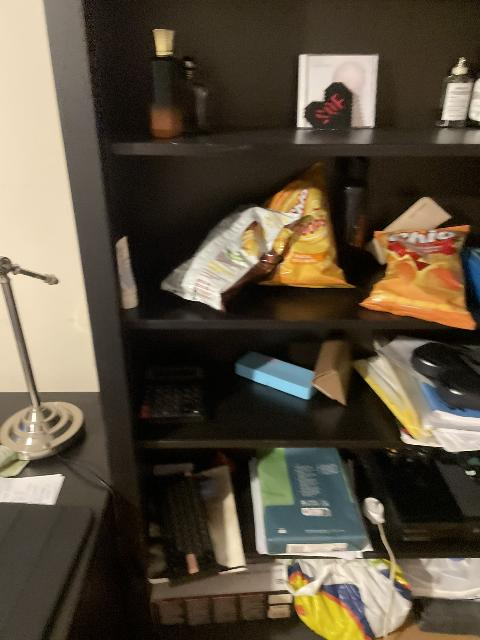Chio Cascaval 125g: (358, 227, 476, 328)
Chio Hula Hoops Cheese 70g: (258, 163, 354, 289)
Lays Beef Grilled Ribs 125g: (159, 206, 303, 313)
